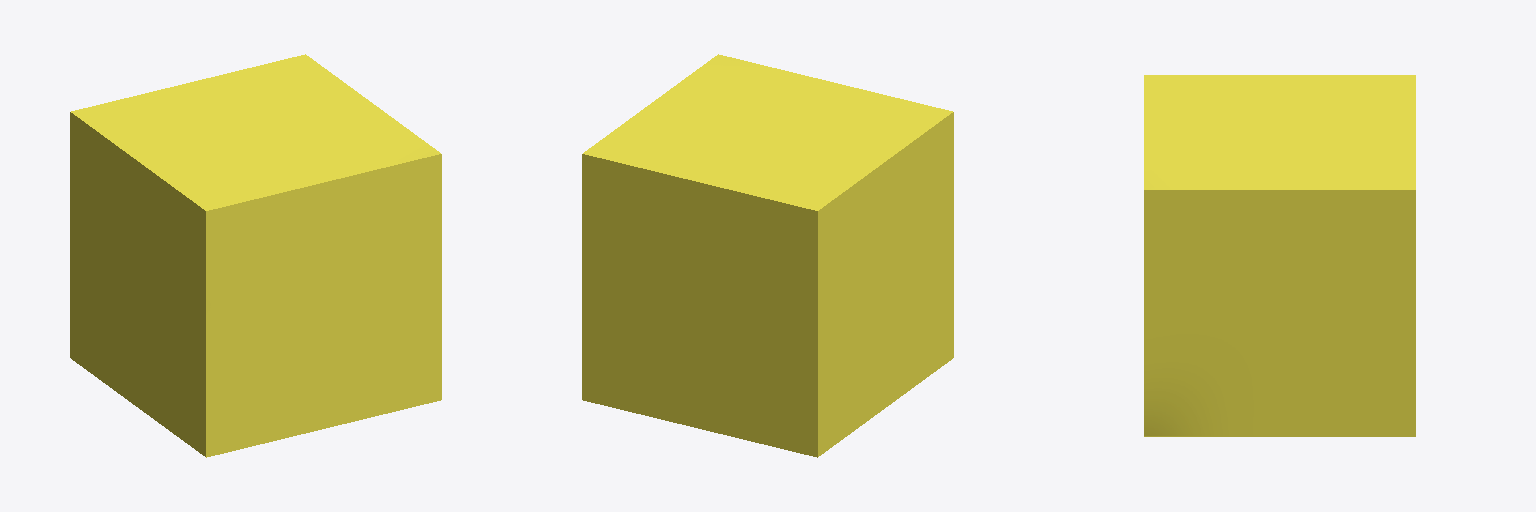
3 views of the same model, side by side, from view 1: azimuth 30°, elevation 25°; view 2: azimuth 150°, elevation 25°; view 3: azimuth 270°, elevation 25° (orthographic).
Parts seen in each view (by area): view 1: Cube; view 2: Cube; view 3: Cube.
Boxes of the visible parts, box(x1,y1,x2,y2) form: Cube: box(70, 54, 441, 457); Cube: box(582, 54, 953, 457); Cube: box(1144, 75, 1415, 436).
Bounding box in the file's own units: 2 × 2 × 2.
Materials: 1 (1 with a texture image).